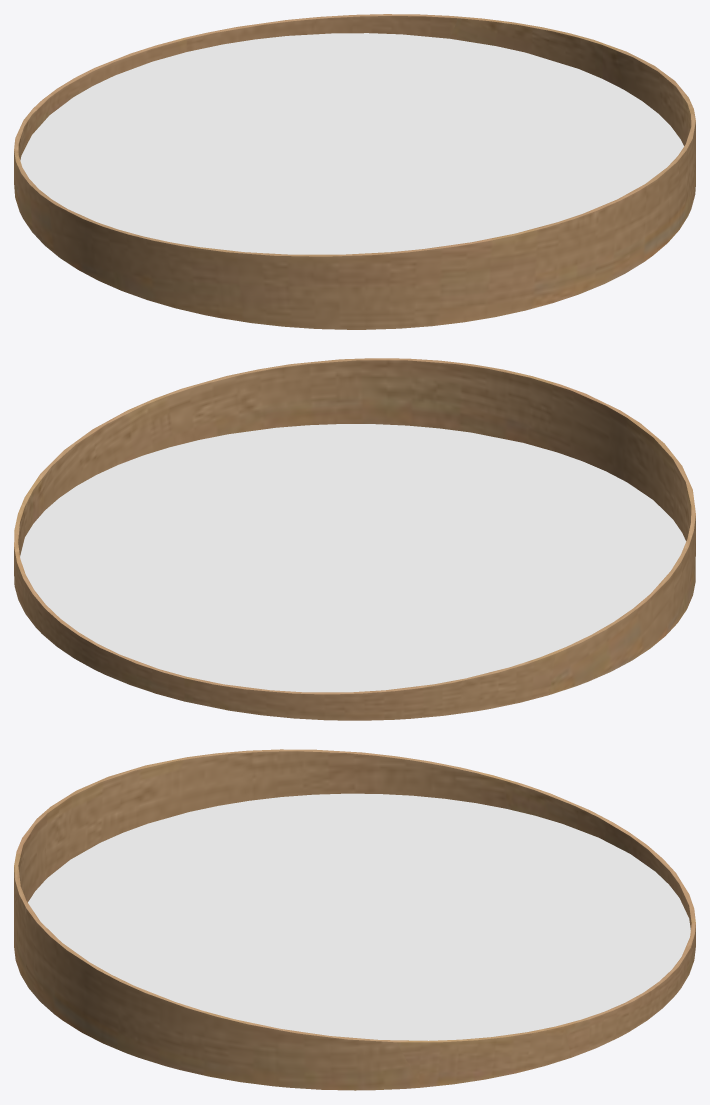
File: 05 - STOCKHOLM Mirror - oak veneer 80 cm.glb
3 views of the same model, one above another, from view 1: azimuth 30°, elevation 25°; view 2: azimuth 150°, elevation 25°; view 3: azimuth 270°, elevation 25° (orthographic).
Parts seen in each view (by area): view 1: 90591588-STOCKHOLM001; view 2: 90591588-STOCKHOLM001; view 3: 90591588-STOCKHOLM001.
Part boxes in pixels (bbox=[...]): 90591588-STOCKHOLM001: bbox=[14, 14, 695, 329]; 90591588-STOCKHOLM001: bbox=[14, 358, 695, 720]; 90591588-STOCKHOLM001: bbox=[14, 749, 695, 1090].
Bounding box in the file's own units: 0.7982 × 0.1001 × 0.7982.
2 materials, 2 textured.
